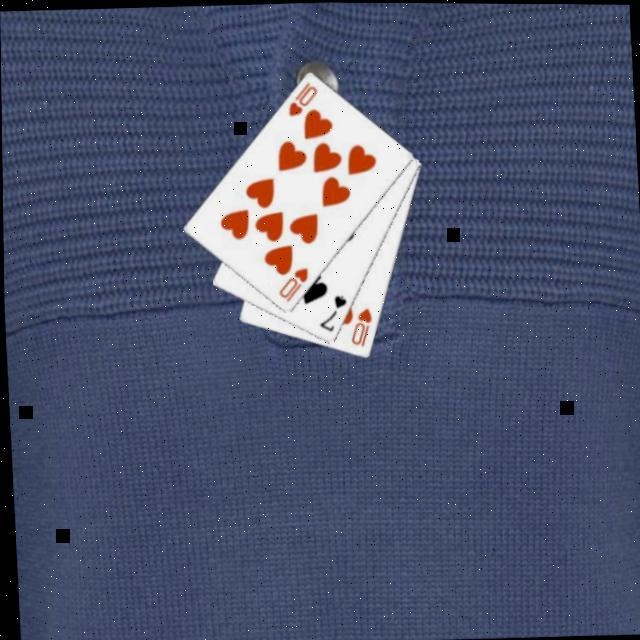10H: (282, 77, 319, 118), (273, 263, 310, 303), (344, 304, 375, 348)
7S: (312, 290, 348, 334)
